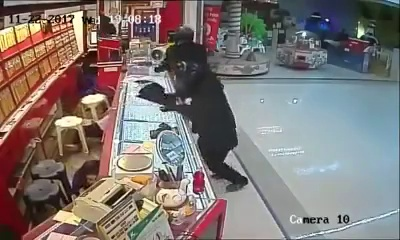helmet: (164, 55, 206, 92), (170, 24, 196, 43)
